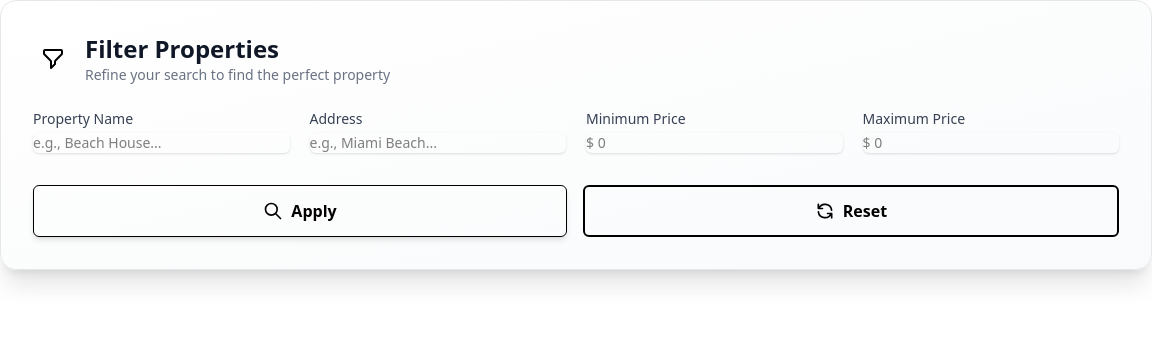
PropertyFilters › should validate min price is less than or equal to max price
Type "1000000" into the number field labelled "Minimum Price" at (714, 143), box [586, 133, 842, 153]
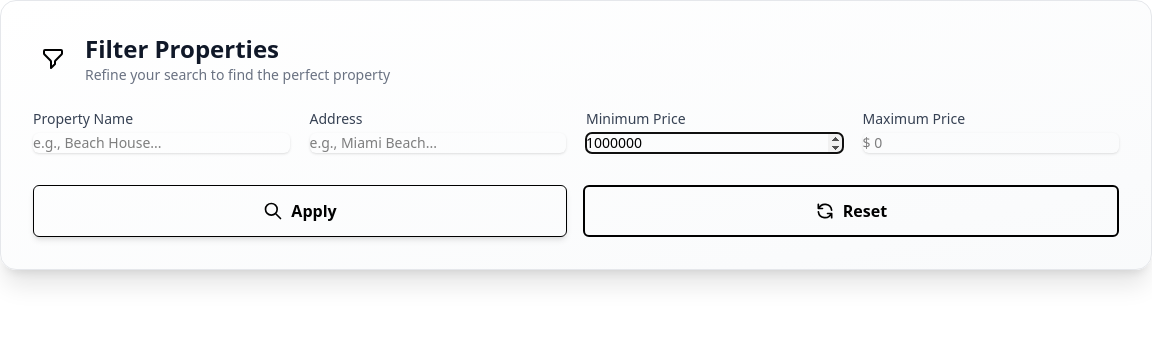
Type "500000" into the number field labelled "Maximum Price" at (991, 143), box [862, 133, 1119, 153]
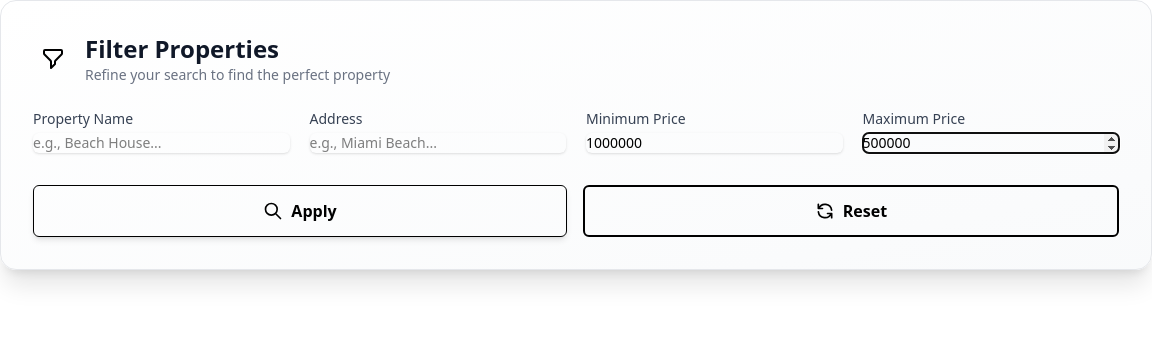
Click the button "Apply" at (300, 211), box [33, 185, 567, 237]
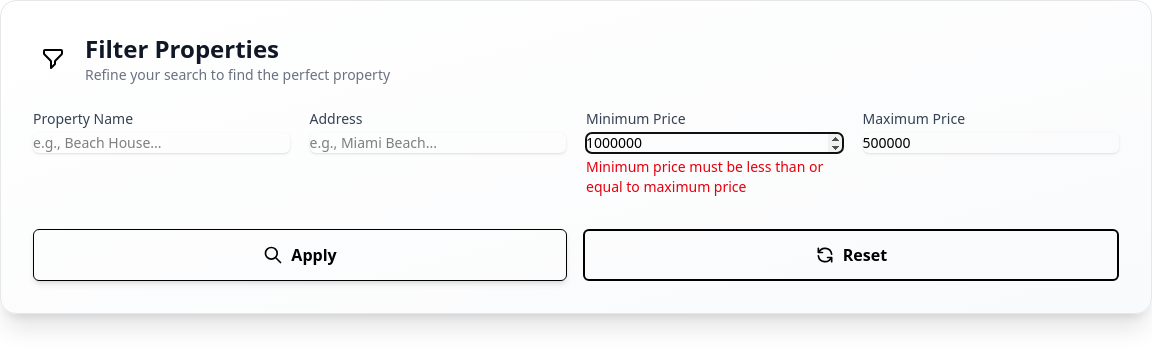
Check: the text "Minimum price must be less than or equal to maximum price" is shown, box [586, 157, 842, 197]
